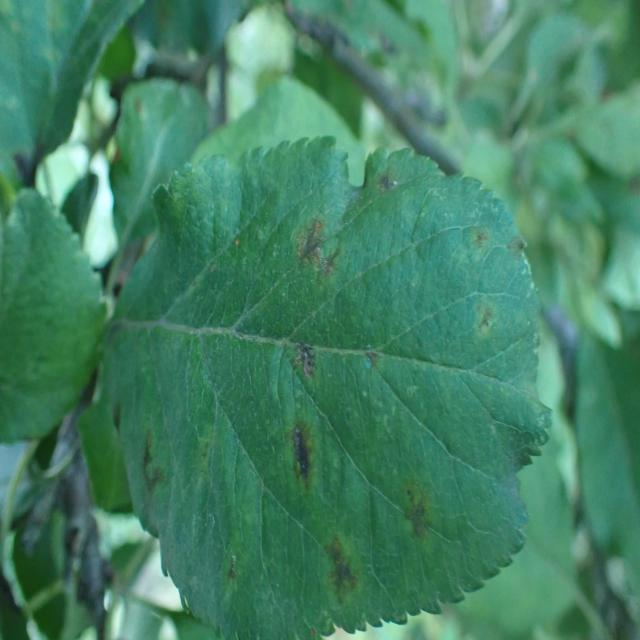scab: (104, 393, 182, 542), (380, 477, 454, 569), (264, 405, 328, 511), (288, 204, 351, 287), (312, 524, 359, 623), (462, 286, 516, 369), (283, 314, 333, 396), (359, 161, 415, 217), (503, 214, 539, 289), (465, 200, 498, 275)
